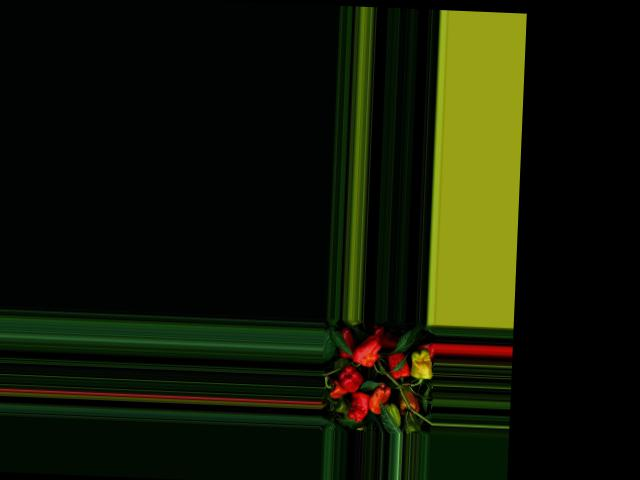bell_pepper: (326, 384, 346, 399)
